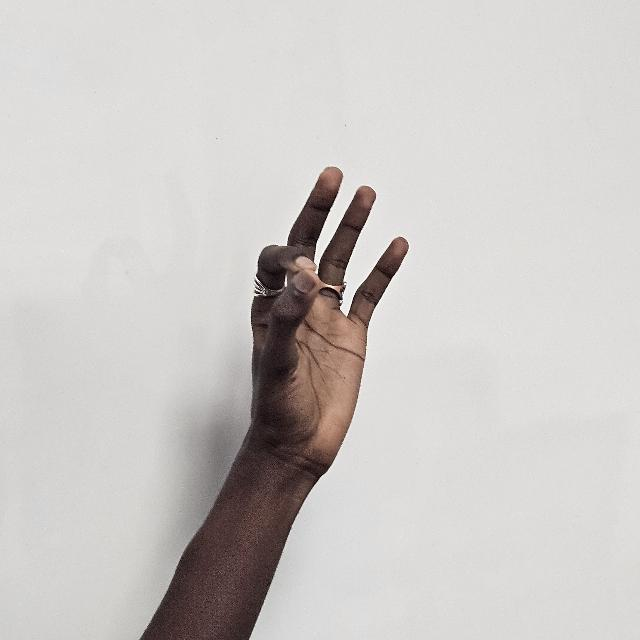Bolinha: (250, 163, 408, 494)
